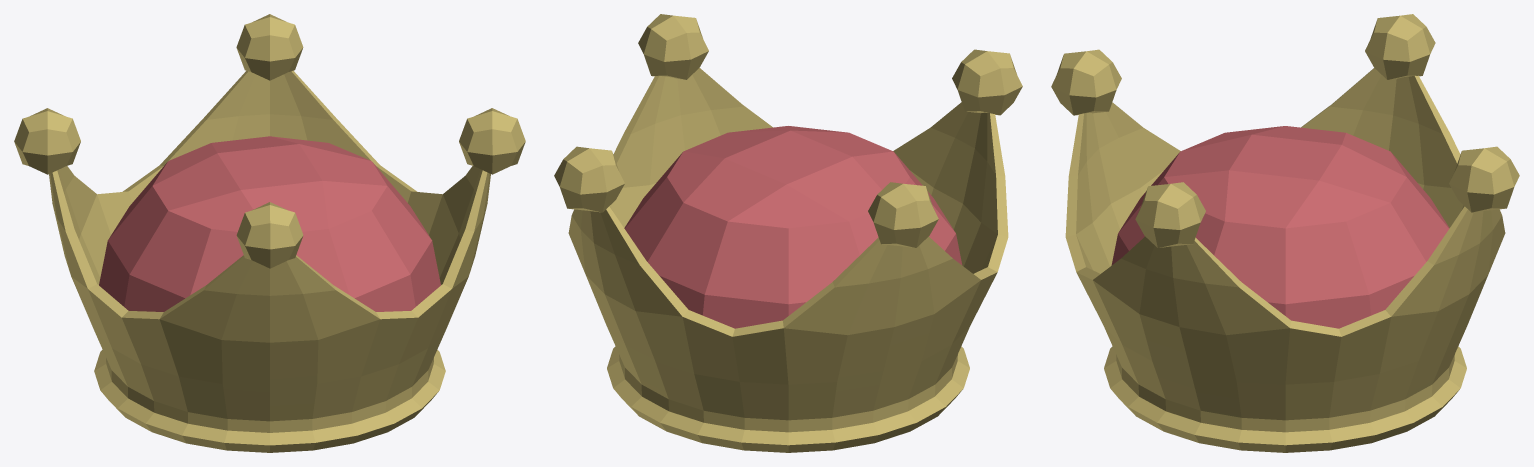
The model's file is SM_Crown2.fbx.
The picture shows the model from 3 angles, left to right: view 1: azimuth 30°, elevation 25°; view 2: azimuth 150°, elevation 25°; view 3: azimuth 270°, elevation 25°; orthographic projection. The views are drawn at different scales.
Visible parts, largest first — view 1: SM_Crown2; view 2: SM_Crown2; view 3: SM_Crown2.
Part boxes in pixels (left/top/right/bottom): SM_Crown2: left=14, top=14, right=525, bottom=452; SM_Crown2: left=554, top=14, right=1022, bottom=452; SM_Crown2: left=1051, top=14, right=1519, bottom=452.
Bounding box in the file's own units: 88.62 × 58.5 × 88.62.
